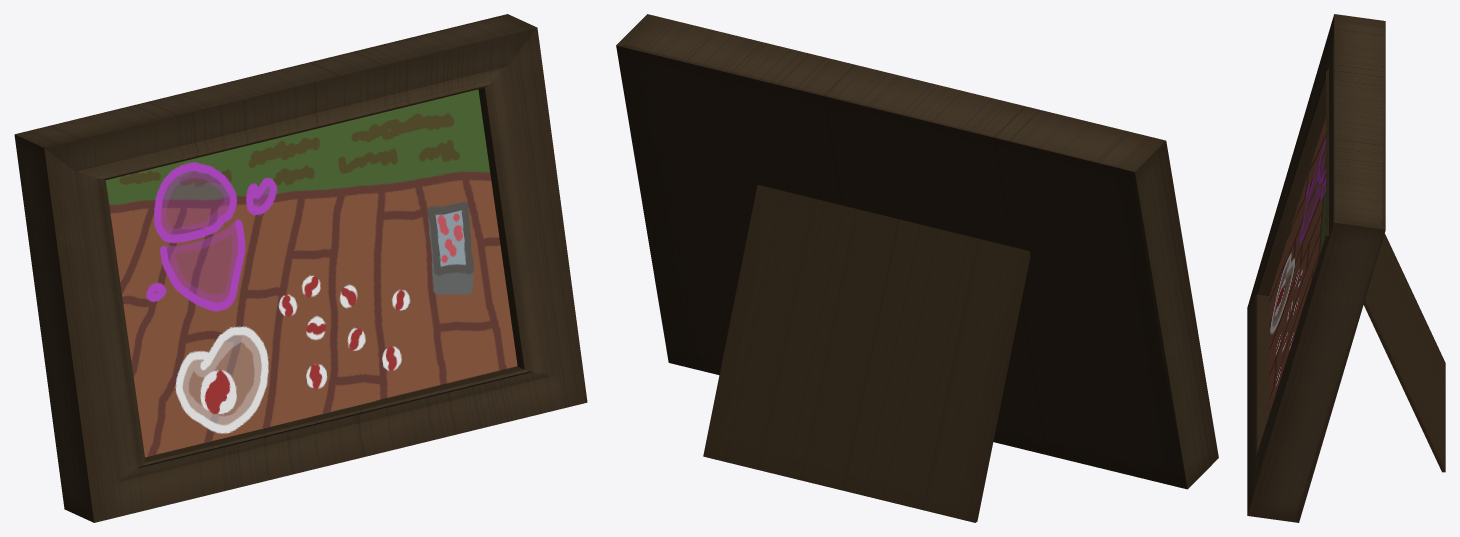
Rendered from Pictureframe2.fbx.
3 renders of one model, left to right at view 1: azimuth 30°, elevation 25°; view 2: azimuth 150°, elevation 25°; view 3: azimuth 270°, elevation 25°, orthographic. The views are drawn at different scales.
Visible parts, largest first — view 1: Plane; view 2: Plane; view 3: Plane.
Part boxes in pixels (x1,y1,x2,y2): Plane: (14, 14, 587, 522); Plane: (616, 14, 1218, 522); Plane: (1247, 14, 1445, 522).
Bounding box in the file's own units: 20 × 13.42 × 8.02.
2 materials, 2 textured.
